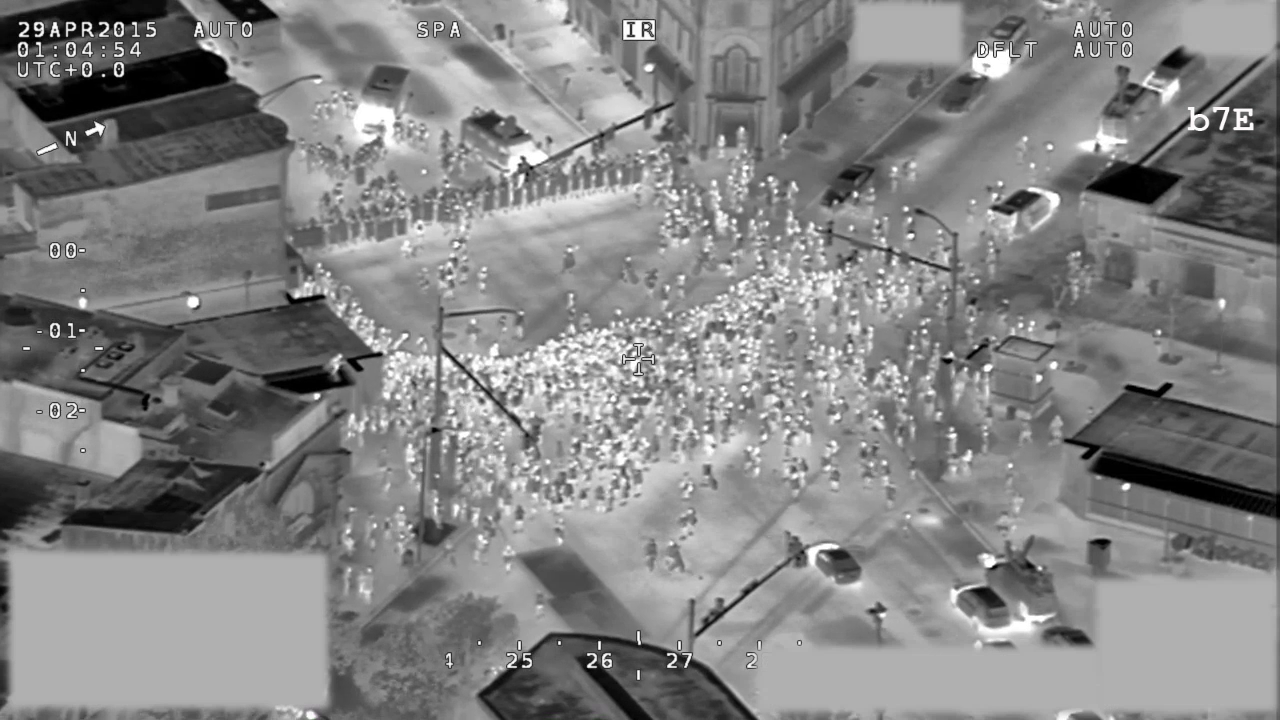vehicle: (450, 104, 554, 184), (986, 534, 1062, 627), (1089, 62, 1160, 150), (349, 60, 419, 138), (985, 183, 1063, 244), (1138, 43, 1208, 103), (971, 14, 1034, 79), (945, 580, 1012, 635), (801, 536, 865, 588), (814, 162, 877, 211), (936, 71, 989, 114)
